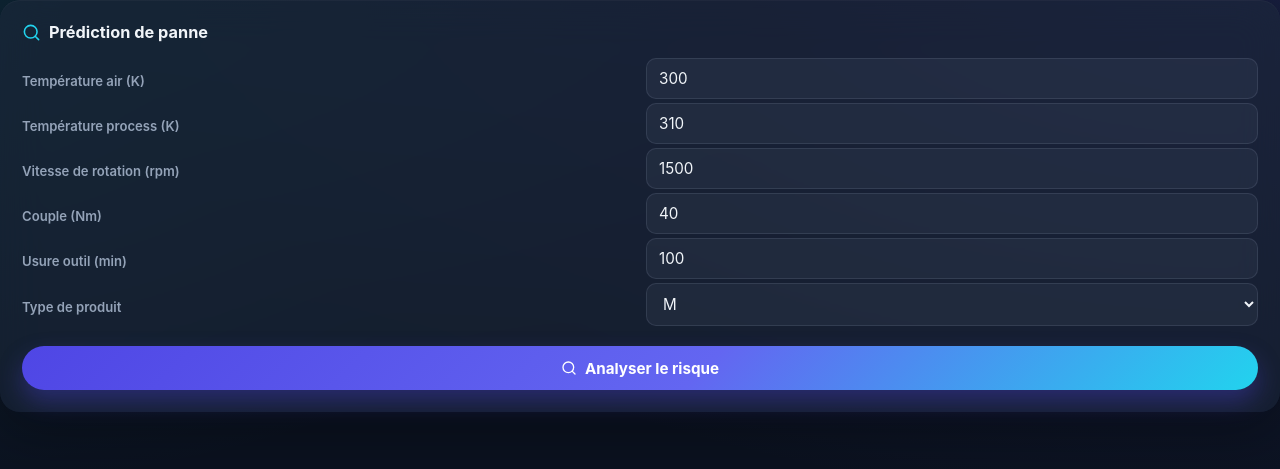
Test case: PredictFailureForm › affiche un message d'erreur si l'appel API echoue
Click the button "Analyser le risque" at {"x": 640, "y": 368}, box left=22, top=346, right=1258, bottom=390
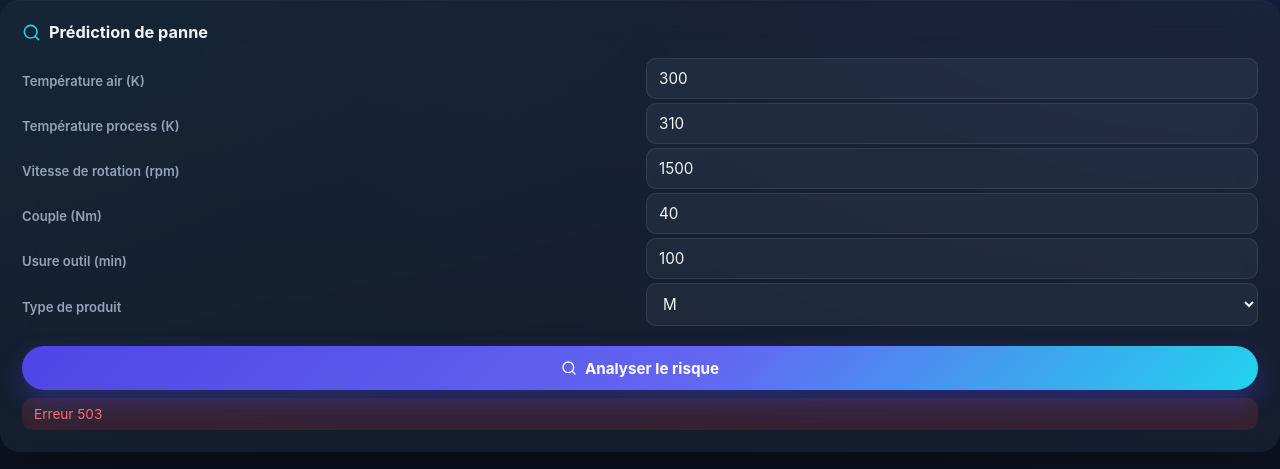
Check: the message reads "Erreur 503", box left=34, top=406, right=102, bottom=422
